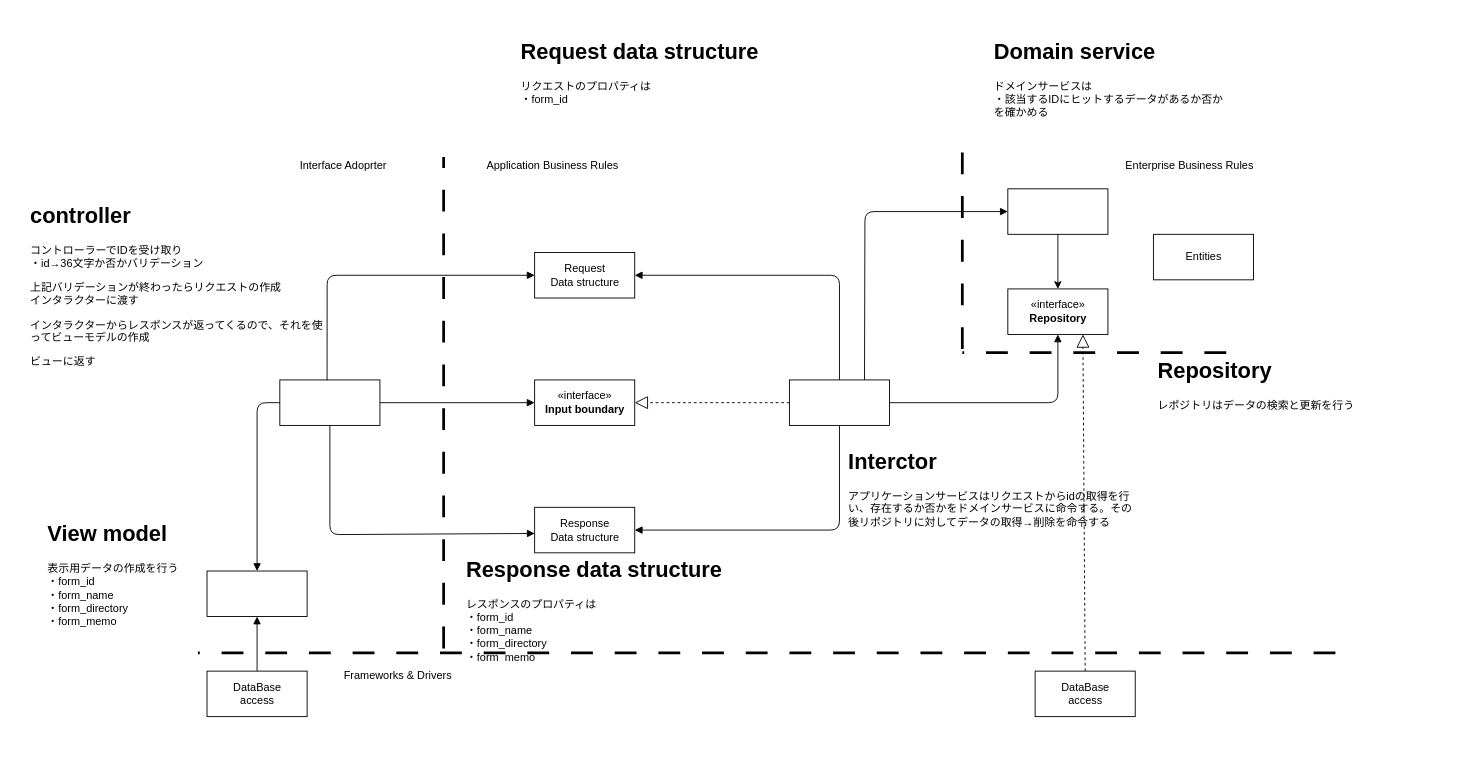
This 1469x759 diagram has some shape labels left out. Each missing label, with the centre of its shape:
"Controller" belongs at (329,402).
"Domain Service" belongs at (1057,211).
"ViewModel Data structure" belongs at (256,593).
"«interface» Edit UseCase" belongs at (839,402).
